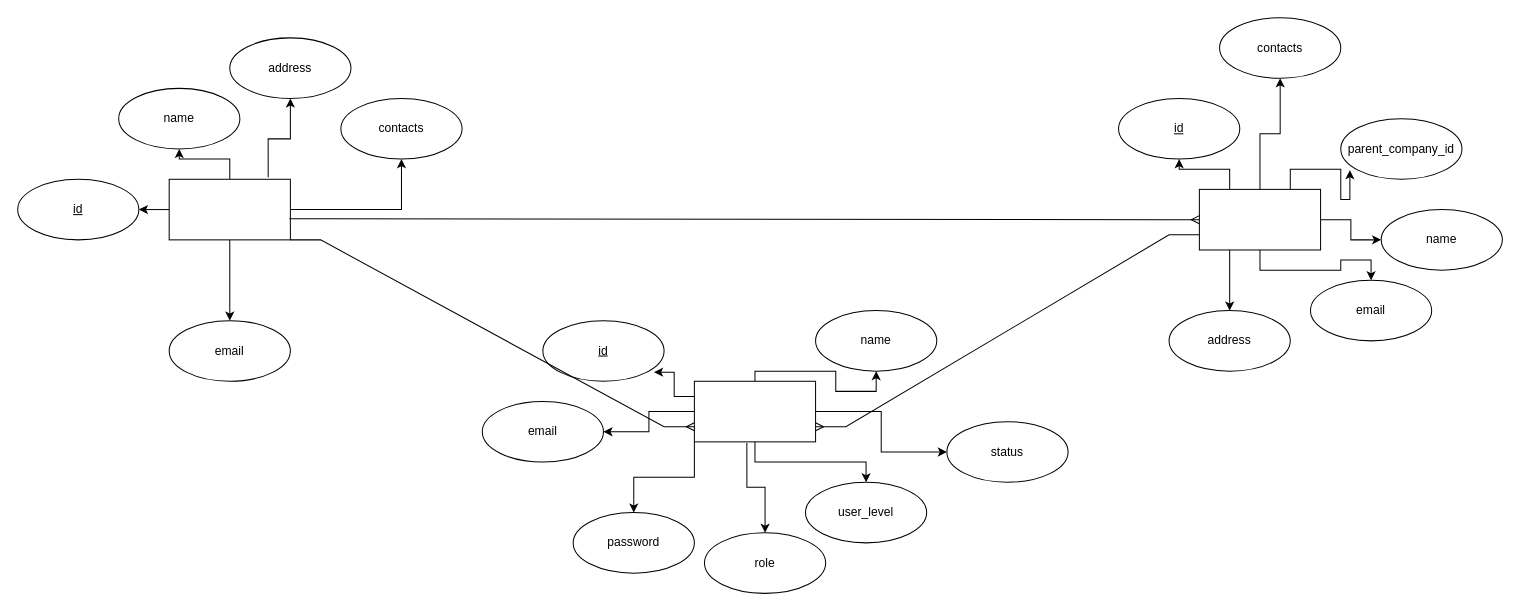
Some shapes in this 1520 by 611 pixel diagram are drawn without their labels. The centre of each missing label's shape, as x and y in pixels:
"child_companies" belongs at point (1259, 219).
"parent_companies" belongs at point (229, 209).
"Users" belongs at point (754, 411).
